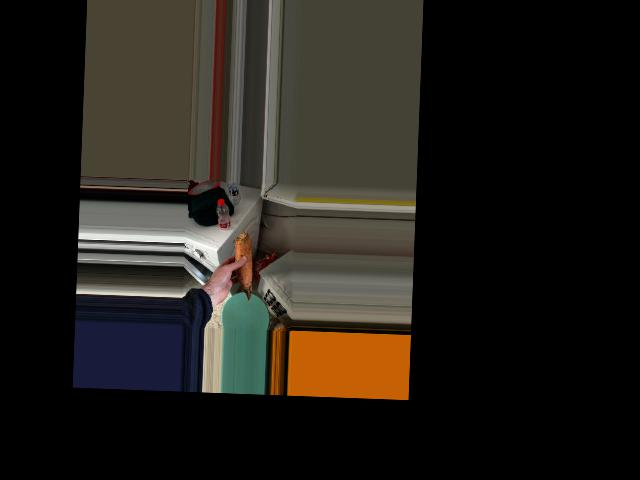sweet_potato: (230, 230, 254, 298)
